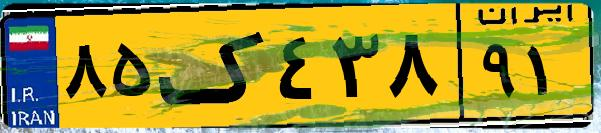1: (525, 38, 570, 115)
3: (330, 28, 385, 110)
4: (270, 28, 330, 110)
5: (110, 28, 158, 98)
8: (385, 28, 445, 110), (57, 26, 110, 100)
9: (475, 38, 525, 113)
ک: (158, 12, 270, 120)
